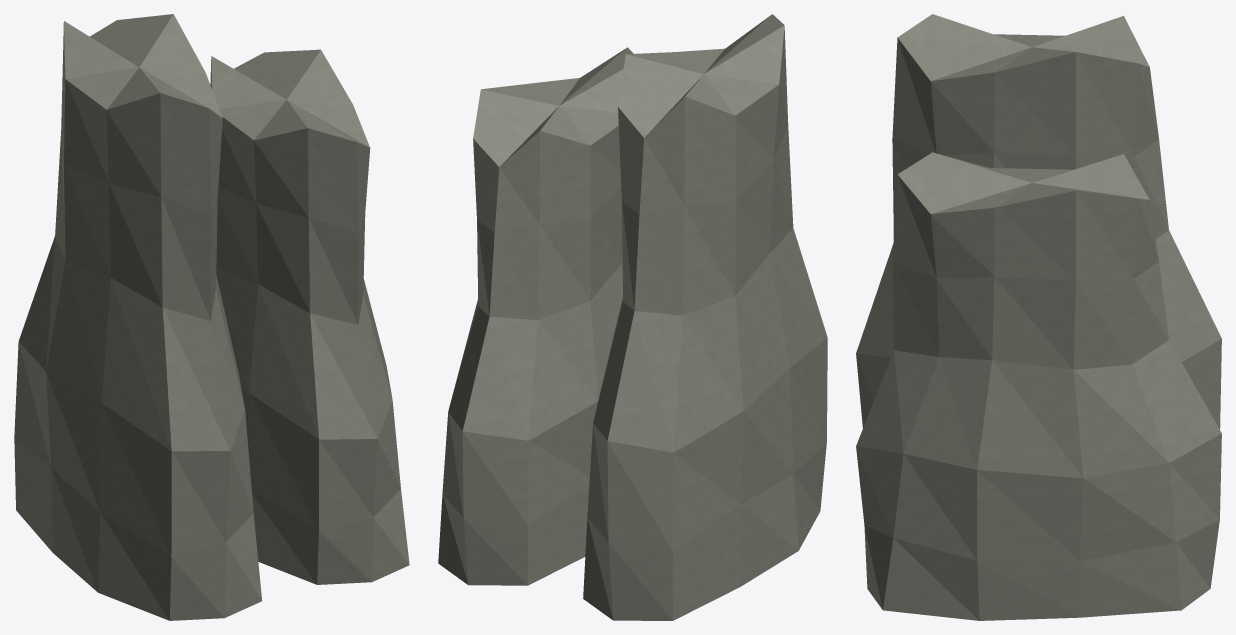
3 views of the same model, side by side, from view 1: azimuth 30°, elevation 25°; view 2: azimuth 150°, elevation 25°; view 3: azimuth 270°, elevation 25° (orthographic). The views are drawn at different scales.
Parts seen in each view (by area): view 1: 破岩形状与干湿色尺寸族; view 2: 破岩形状与干湿色尺寸族; view 3: 破岩形状与干湿色尺寸族.
Part boxes in pixels (left/top/right/bottom): 破岩形状与干湿色尺寸族: left=14, top=14, right=409, bottom=620; 破岩形状与干湿色尺寸族: left=438, top=14, right=827, bottom=620; 破岩形状与干湿色尺寸族: left=856, top=14, right=1221, bottom=620.
Bounding box in the file's own units: 4.49 × 7.82 × 5.12.
Materials: 2 (2 with a texture image).
